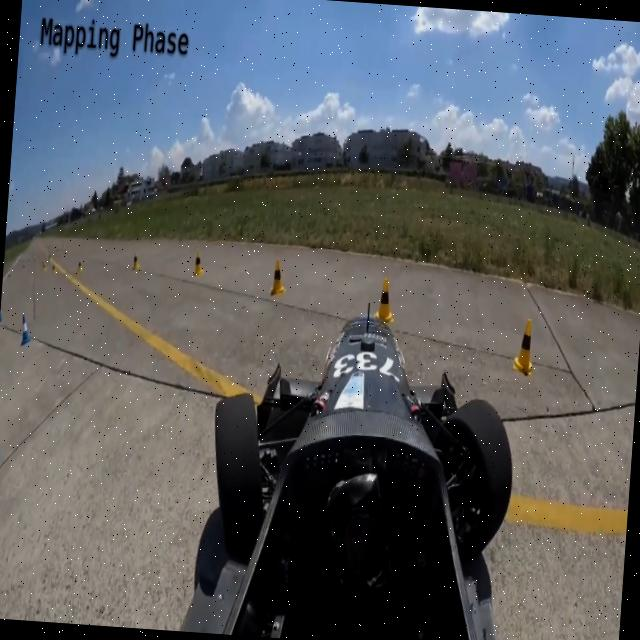yellow_cone: (512, 310, 538, 382), (371, 272, 397, 330), (264, 258, 288, 298), (128, 244, 144, 278), (190, 250, 206, 282)
